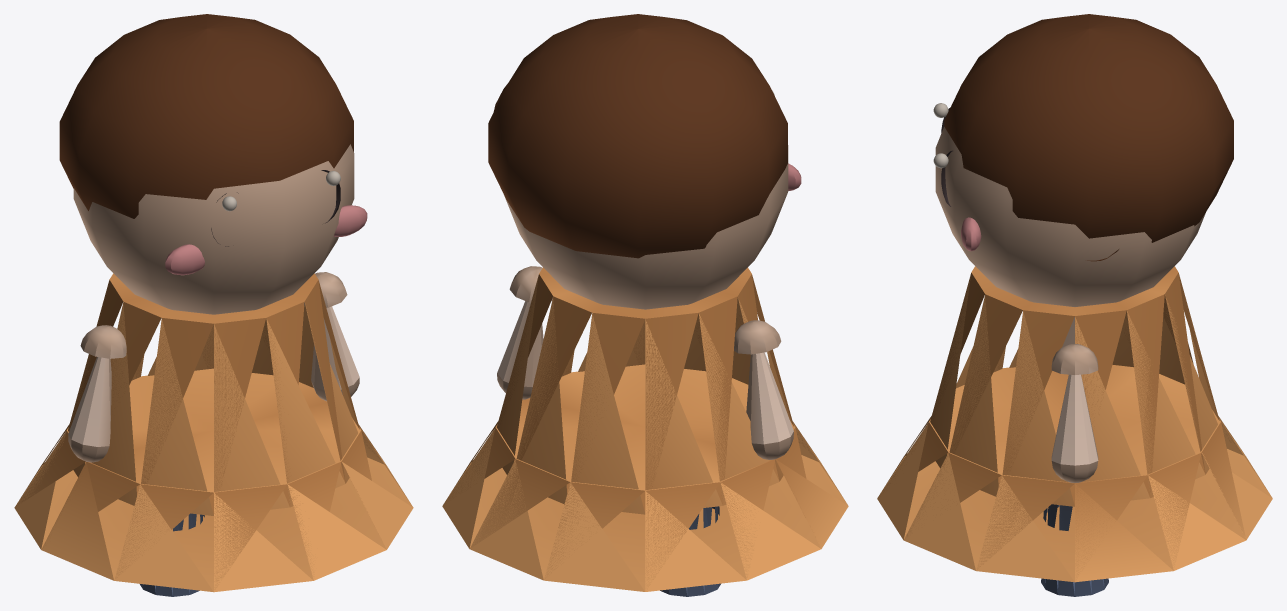
3 renders of one model, left to right at view 1: azimuth 30°, elevation 25°; view 2: azimuth 150°, elevation 25°; view 3: azimuth 270°, elevation 25°, orthographic. The views are drawn at different scales.
Visible parts, largest first — view 1: pet_pc0bc2994; view 2: pet_pc0bc2994; view 3: pet_pc0bc2994.
Boxes of the visible parts, bbox=[...] form: pet_pc0bc2994: bbox=[14, 14, 413, 596]; pet_pc0bc2994: bbox=[442, 14, 848, 596]; pet_pc0bc2994: bbox=[877, 14, 1272, 596].
Bounding box in the file's own units: 0.357 × 0.5313 × 0.357.
